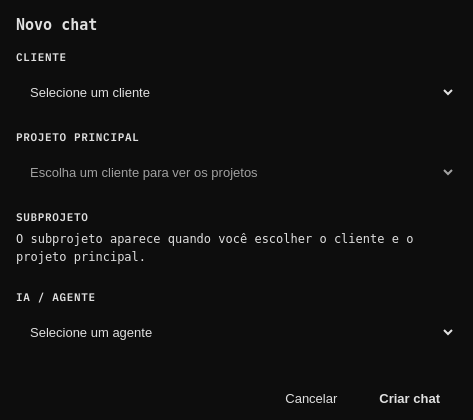
Test: NewChatSheet — modo "Todos" (sem cliente fixo, select de Cliente) › picking a client WITH children: title updates and the level-1 select appears filtered by that client
Select "Cliente 1" in the dropdown named "Cliente" at (236, 92), box left=16, top=70, right=456, bottom=114
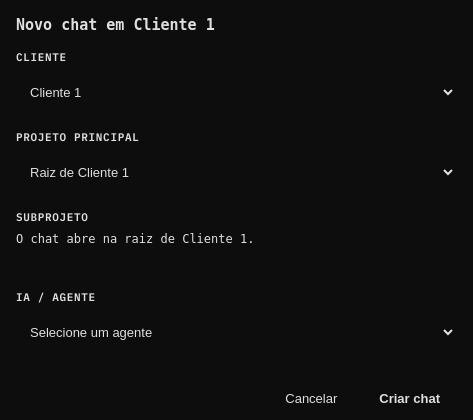
Check: the text "Novo chat em Cliente 1" is shown, box left=16, top=16, right=215, bottom=34
Check: the dropdown named "Projeto principal" is enabled, box left=16, top=150, right=456, bottom=194
